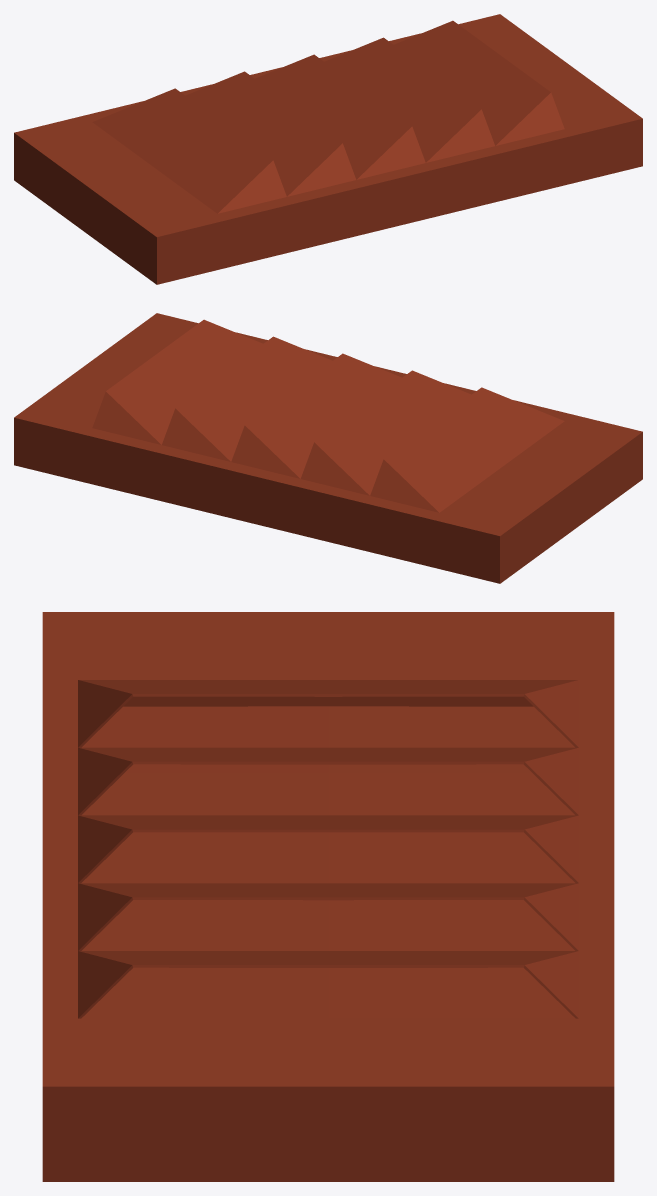
Rendered from air vents.glb.
3 renders of one model, top to bottom at view 1: azimuth 30°, elevation 25°; view 2: azimuth 150°, elevation 25°; view 3: azimuth 270°, elevation 25°, orthographic. The views are drawn at different scales.
Visible parts, largest first — view 1: Cube; view 2: Cube; view 3: Cube.
Part boxes in pixels (box(x1,y1,x2,y2)): Cube: box(14, 14, 642, 284); Cube: box(14, 313, 642, 583); Cube: box(42, 612, 614, 1181).
Size of the model in its own units: 3.93 by 0.5754 by 2.
